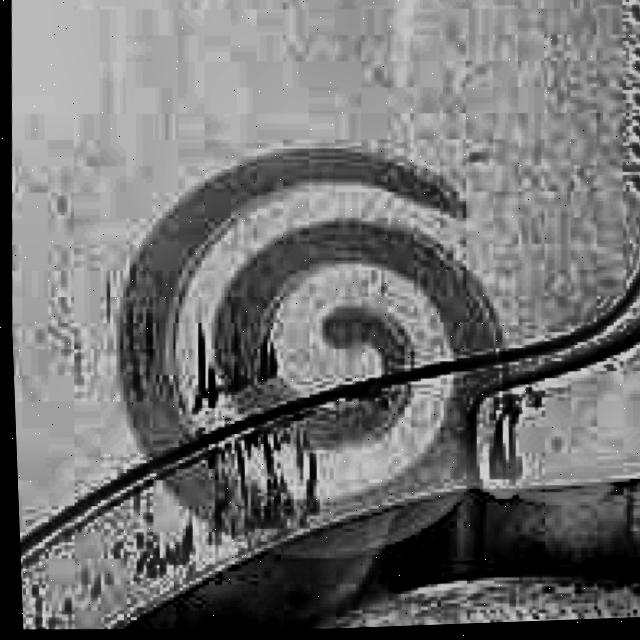door_scratch: (106, 300, 334, 592), (469, 378, 555, 480)
